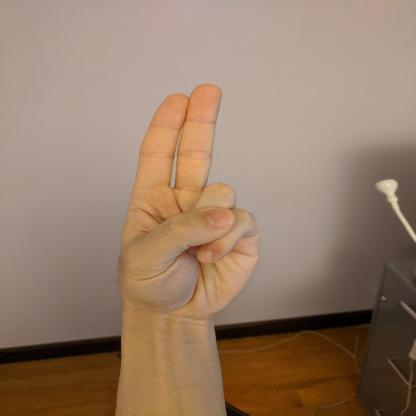U: (107, 79, 267, 320)
